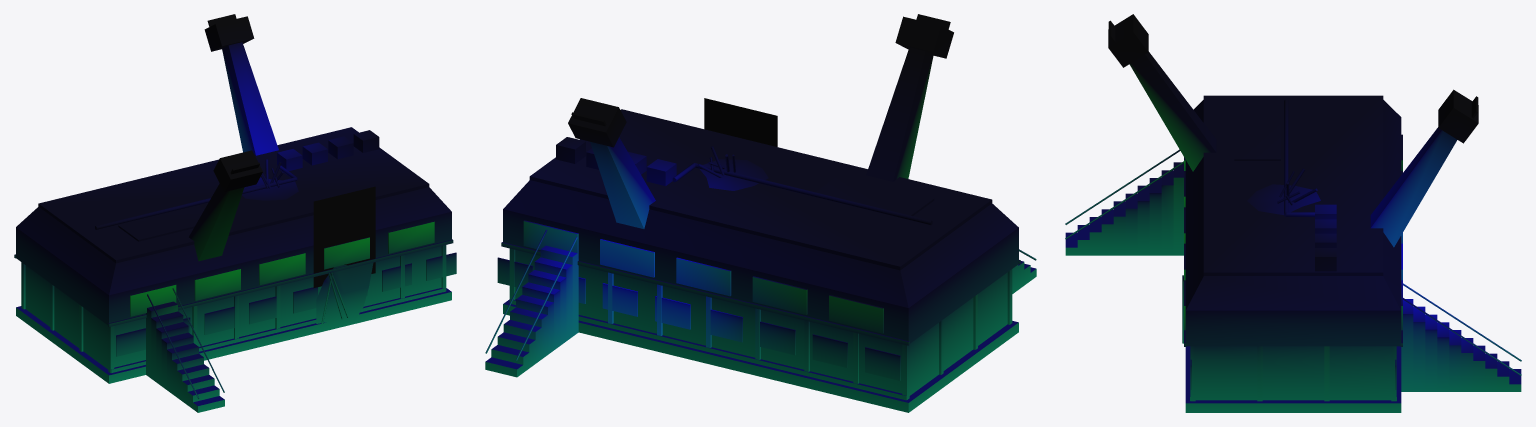
File: terminal2_damaged.glb
3 views of the same model, side by side, from view 1: azimuth 30°, elevation 25°; view 2: azimuth 150°, elevation 25°; view 3: azimuth 270°, elevation 25° (orthographic). The views are drawn at different scales.
Visible parts, largest first — view 1: lod0; view 2: lod0; view 3: lod0.
Boxes of the visible parts, x1=… form: lod0: x1=14, y1=14, x2=456, y2=412; lod0: x1=485, y1=14, x2=1036, y2=412; lod0: x1=1065, y1=14, x2=1521, y2=412.
Size of what is drawn, in the model's own units: 26.05 by 15.7 by 25.46.
